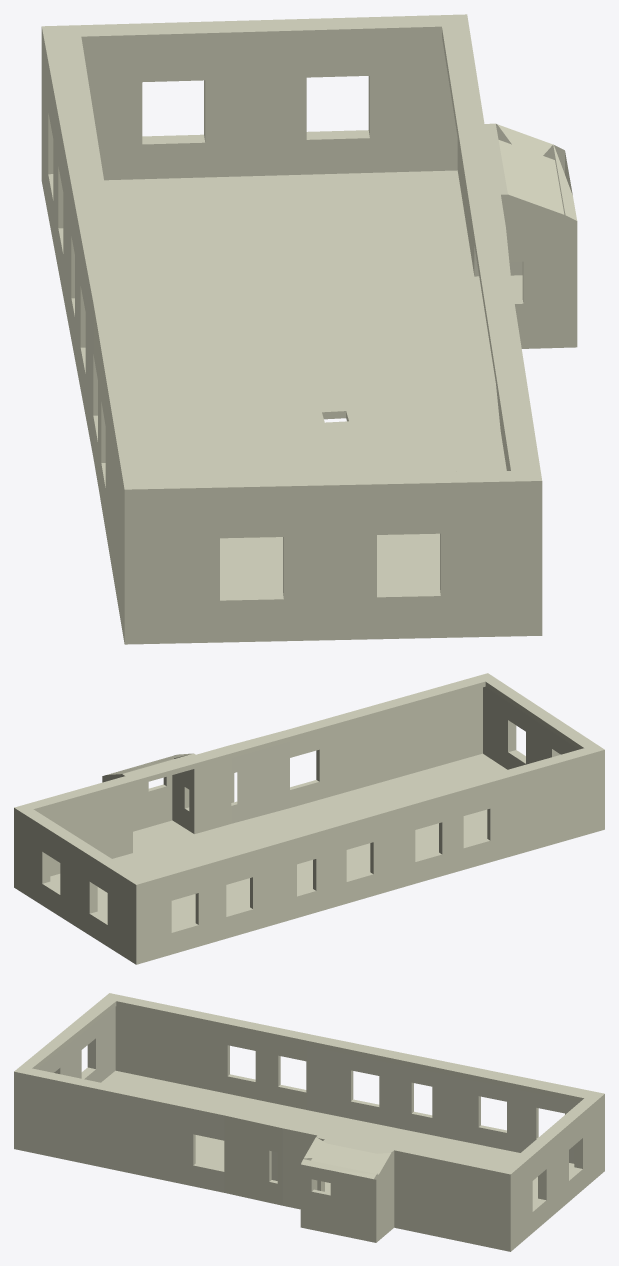
The model's file is steny_1_patro.dae.
3 renders of one model, top to bottom at view 1: azimuth 30°, elevation 25°; view 2: azimuth 150°, elevation 25°; view 3: azimuth 270°, elevation 25°, orthographic. The views are drawn at different scales.
Parts seen in each view (by area): view 1: SketchUp; view 2: SketchUp; view 3: SketchUp.
Part boxes in pixels (x1=…): SketchUp: x1=41, y1=14, x2=577, y2=644; SketchUp: x1=14, y1=673, x2=604, y2=964; SketchUp: x1=14, y1=993, x2=604, y2=1251.
Size of the model in its own units: 622 by 856 by 124.
